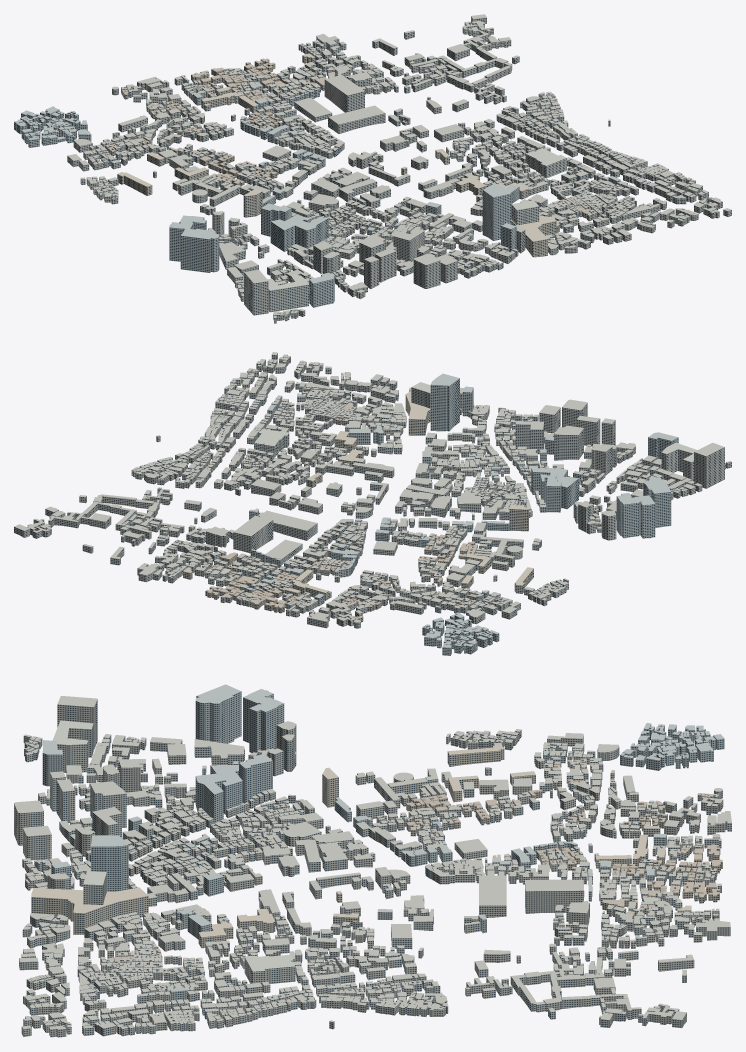
The model's file is city_-3_-4.glb.
The picture shows the model from 3 angles, top to bottom: view 1: azimuth 30°, elevation 25°; view 2: azimuth 150°, elevation 25°; view 3: azimuth 270°, elevation 25°; orthographic projection. The views are drawn at different scales.
Bounding box in the file's own units: 1042 × 110 × 1036.
5 materials, 5 textured.
